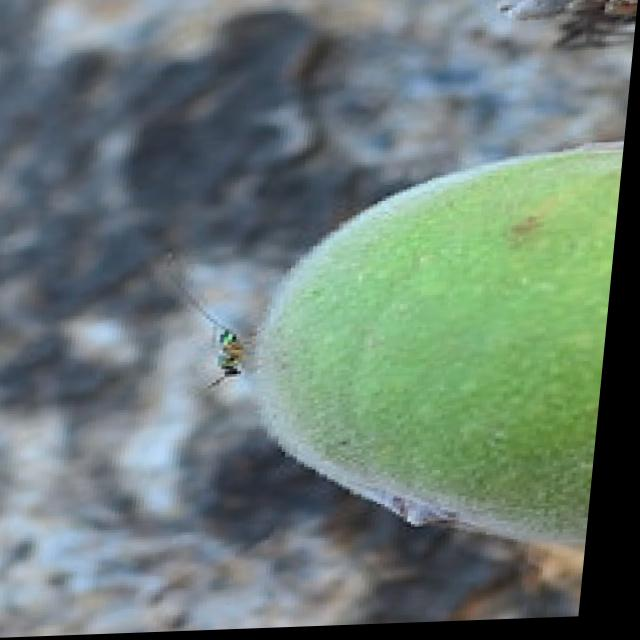Guepe: (170, 294, 279, 398)
